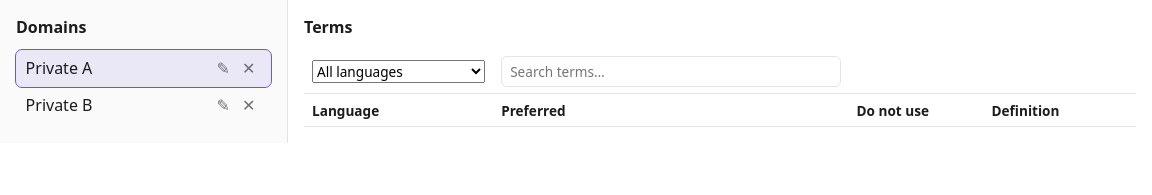
TerminologyView terms fetch: latest-request-wins on domain switch › clears rows immediately on switch and discards an out-of-order stale fetch from the previous domain
The width and height of the screenshot is (1152, 195).
Switch to Private B before A's fetch resolves.
Click the text "Private B".
click(59, 105)  # box 26,94 -> 92,116
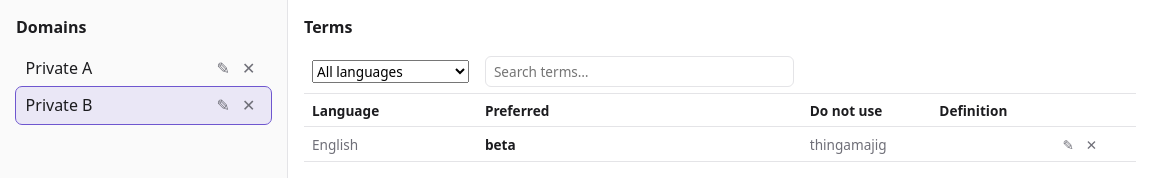
Now the text "beta" is shown, box 477,127 -> 802,162
